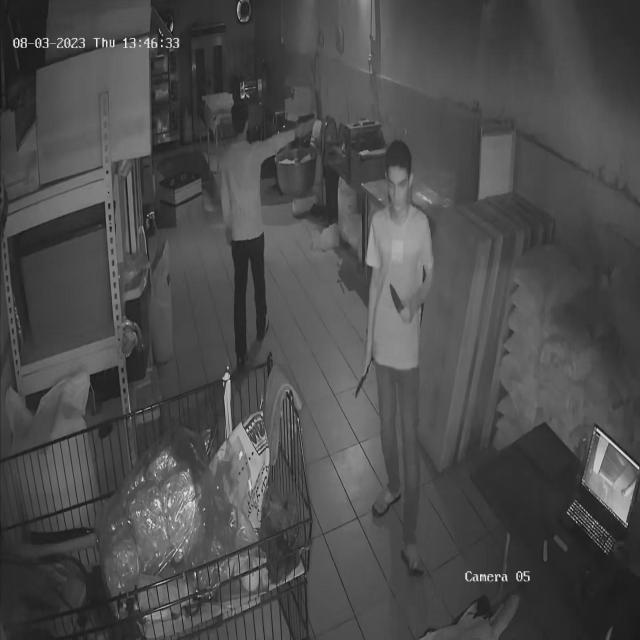Gun: (290, 102, 338, 146)
Knife: (382, 273, 416, 324)
